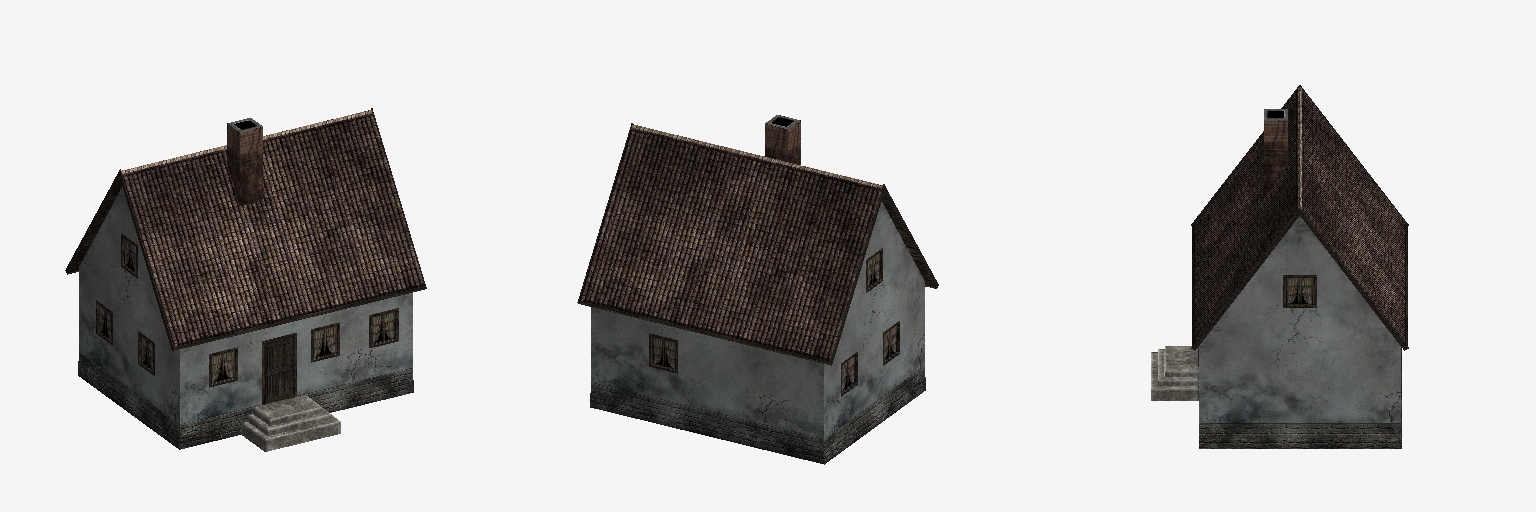
3 views of the same model, side by side, from view 1: azimuth 30°, elevation 25°; view 2: azimuth 150°, elevation 25°; view 3: azimuth 270°, elevation 25° (orthographic).
Visible parts, largest first — view 1: Haus_020; view 2: Haus_020; view 3: Haus_020.
Boxes of the visible parts, x1,y1,x2,y2 form: Haus_020: [65, 108, 426, 451]; Haus_020: [577, 115, 938, 464]; Haus_020: [1151, 85, 1408, 448].
Size of the model in its own units: 86.6 by 88.8 by 76.59.
1 materials, 1 textured.